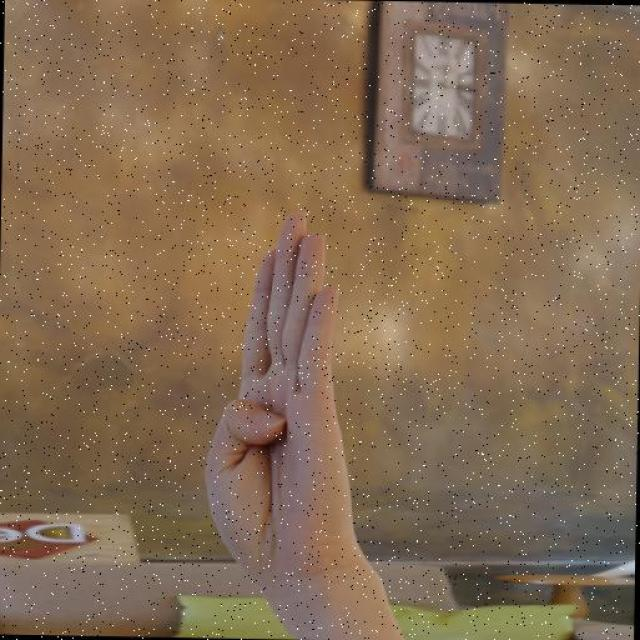B: (197, 205, 384, 596)
